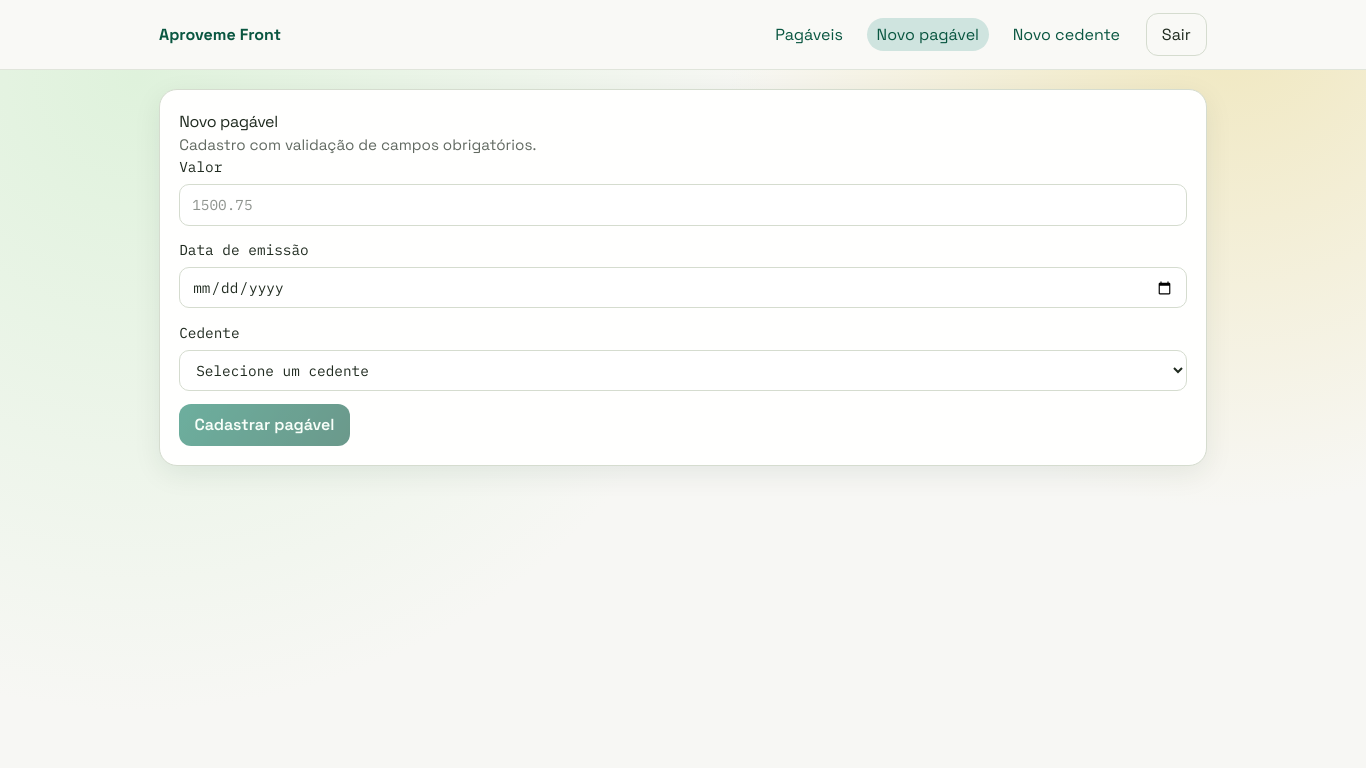
Test: NewPayablePage › shows error when createPayable API fails
Expected: the dropdown is shown, [179,350,1187,390]
In the field with placeholder "1500.75": (683, 205) [179,184,1187,226], type "500"
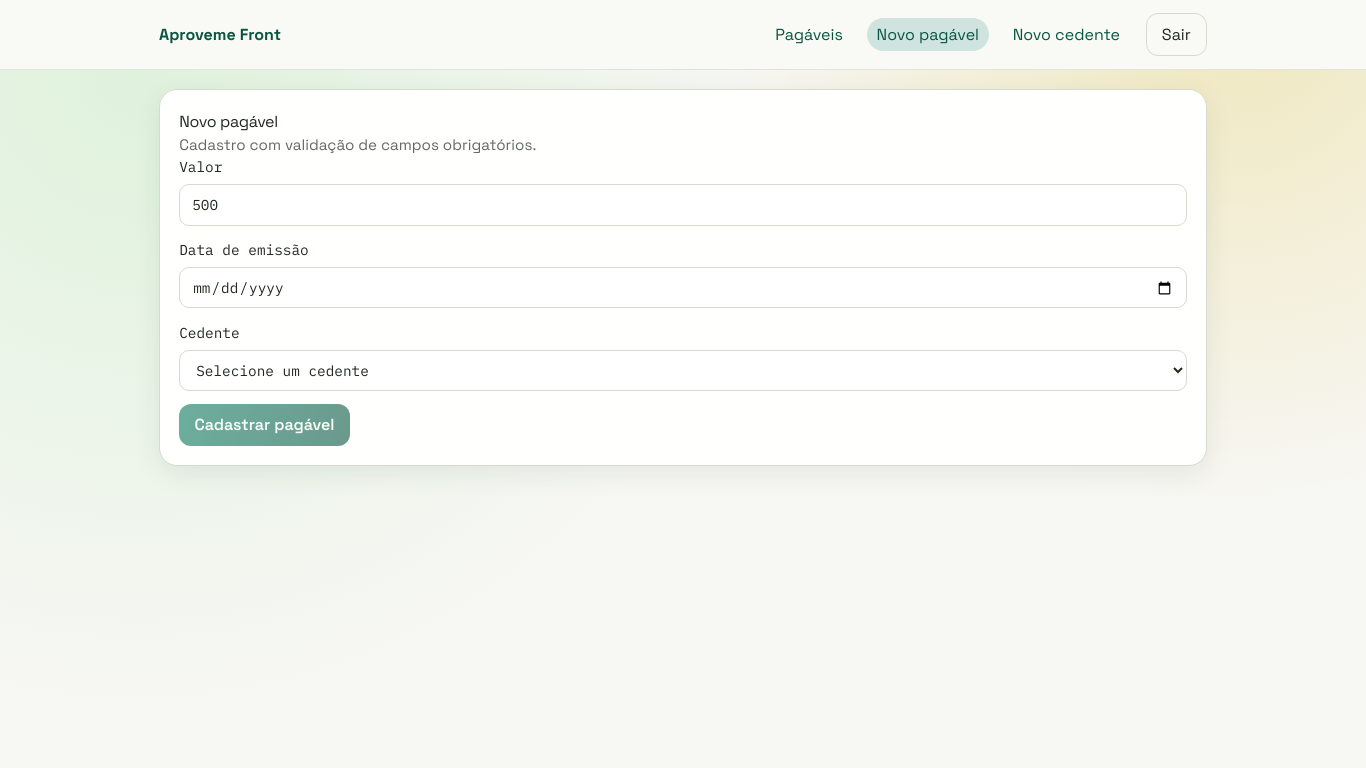
Select "Empresa A (12.345.678/0001-99)" in the dropdown: (683, 370) [179,350,1187,390]
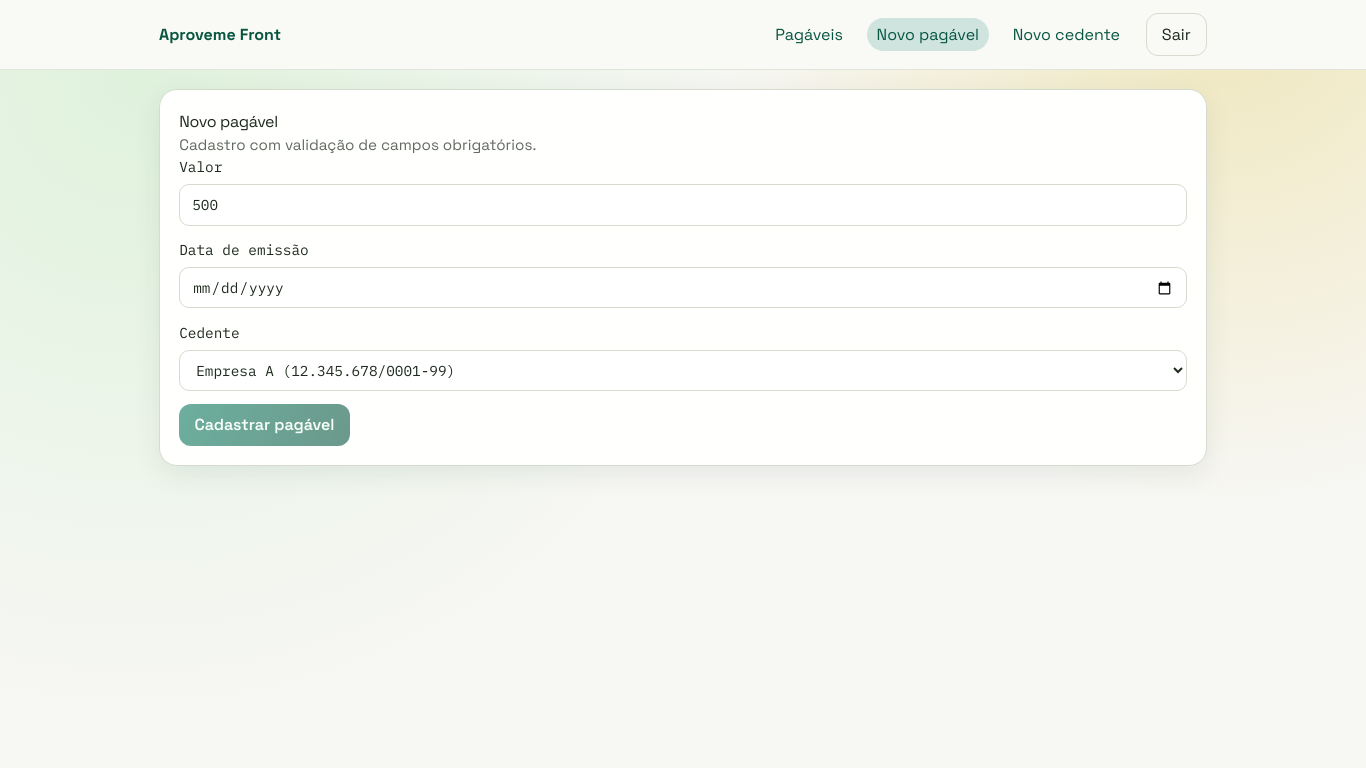
In the date field labelled "Data de emissão": (683, 288) [179,267,1187,308], type "2025-04-01"
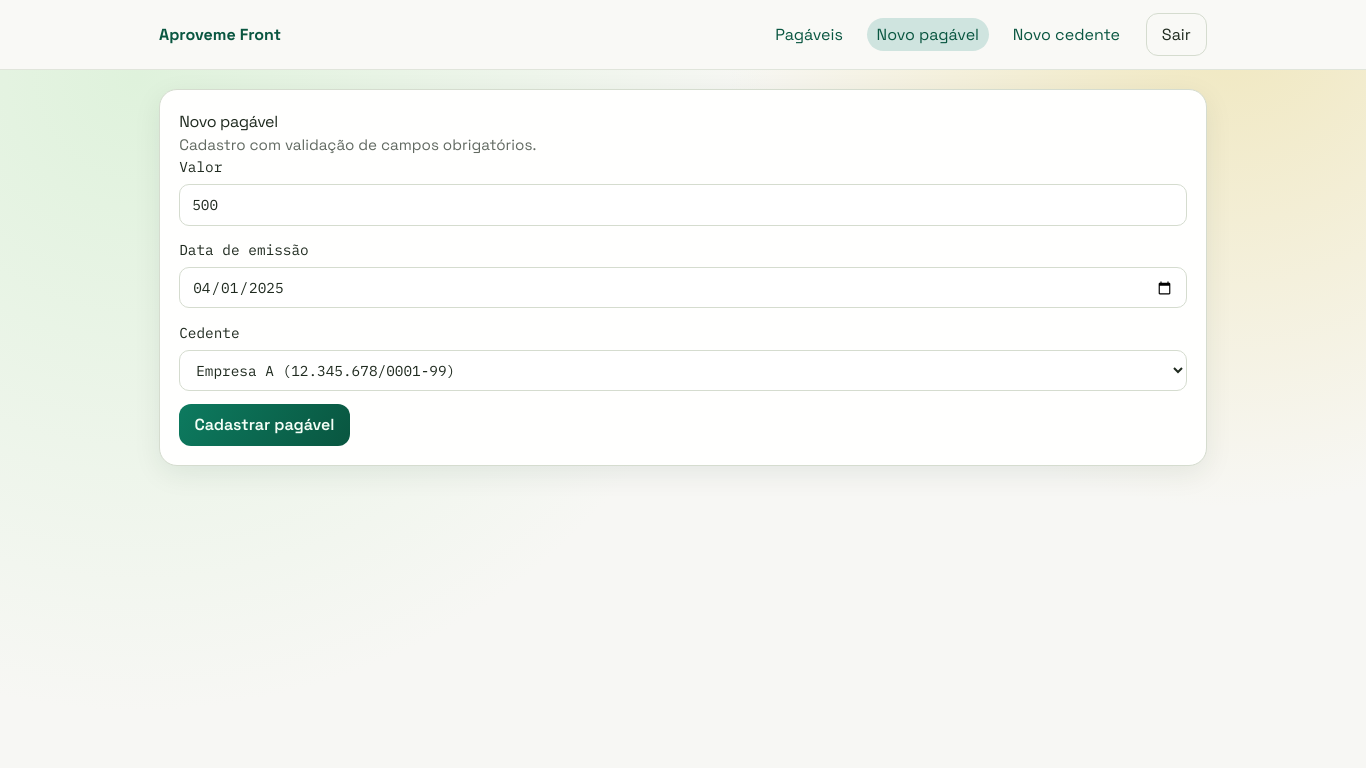
Click the button "Cadastrar pagável": (264, 425) [179,404,350,446]
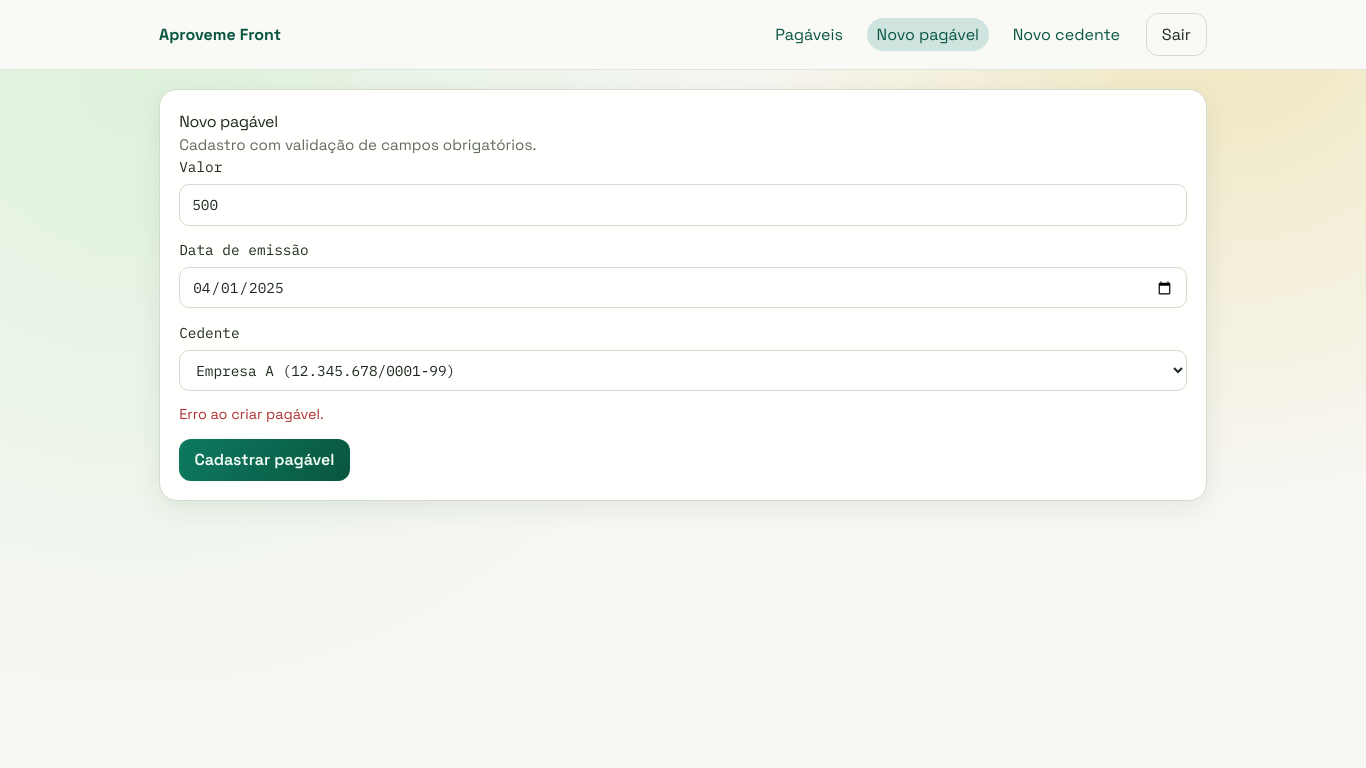
Expected: the text "Erro ao criar pagável." is shown, [179,405,324,423]
